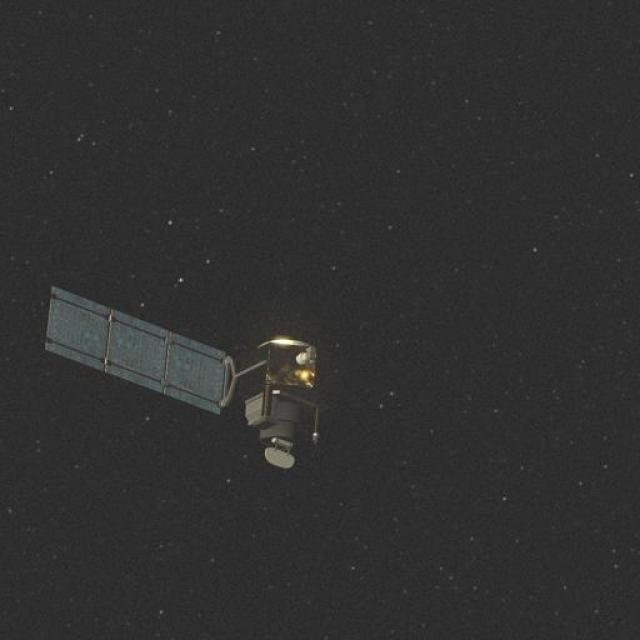earth_observation_sat_1: (33, 273, 343, 483)
